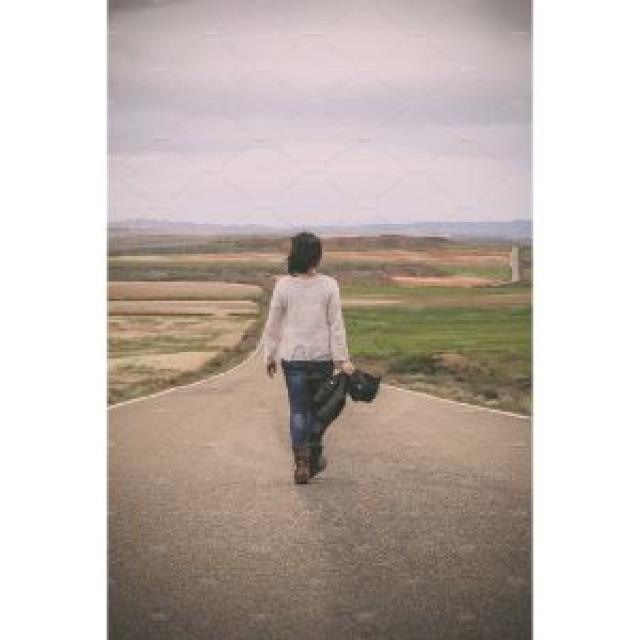nonfall: (236, 221, 364, 499)
